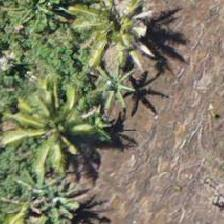coconut_tree: (7, 81, 97, 171), (76, 0, 166, 69)
